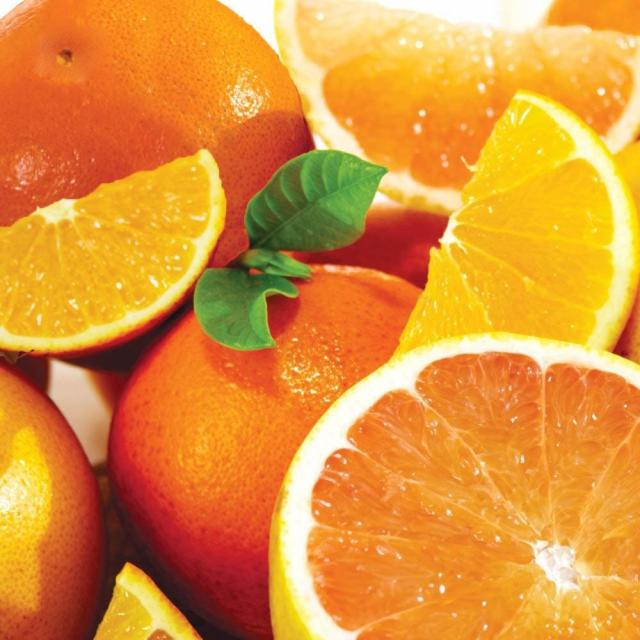10_tangerine: (116, 252, 450, 640), (265, 329, 640, 640), (0, 0, 316, 306), (264, 2, 640, 214), (382, 85, 638, 385), (0, 148, 221, 363)
